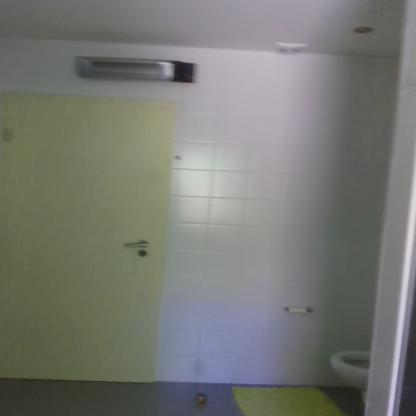door: (7, 99, 160, 381)
hinged: (4, 127, 10, 144)
lever: (121, 240, 152, 247)
